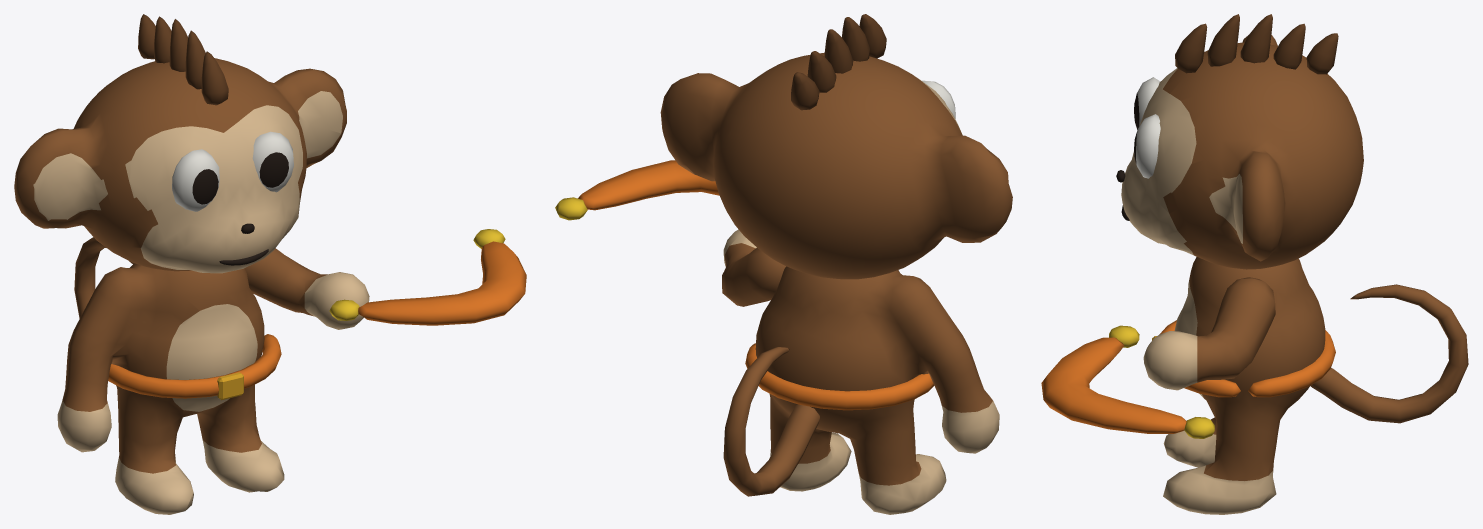
3 views of the same model, side by side, from view 1: azimuth 30°, elevation 25°; view 2: azimuth 150°, elevation 25°; view 3: azimuth 270°, elevation 25° (orthographic). The views are drawn at different scales.
Parts seen in each view (by area): view 1: bumerangue_2_cabeca, bumerangue_0_corpo, bumerangue_3_braco, bumerangue_1_cauda; view 2: bumerangue_2_cabeca, bumerangue_0_corpo, bumerangue_3_braco, bumerangue_1_cauda; view 3: bumerangue_2_cabeca, bumerangue_0_corpo, bumerangue_3_braco, bumerangue_1_cauda.
Boxes of the visible parts, left/top/right/bottom form: bumerangue_2_cabeca: left=14, top=14, right=346, bottom=273; bumerangue_0_corpo: left=57, top=263, right=284, bottom=514; bumerangue_3_braco: left=244, top=229, right=526, bottom=329; bumerangue_1_cauda: left=74, top=237, right=133, bottom=318; bumerangue_2_cabeca: left=660, top=14, right=1012, bottom=279; bumerangue_0_corpo: left=745, top=266, right=999, bottom=514; bumerangue_3_braco: left=555, top=160, right=785, bottom=306; bumerangue_1_cauda: left=723, top=347, right=819, bottom=496; bumerangue_2_cabeca: left=1116, top=14, right=1363, bottom=269; bumerangue_0_corpo: left=1152, top=257, right=1335, bottom=514; bumerangue_3_braco: left=1041, top=277, right=1275, bottom=438; bumerangue_1_cauda: left=1310, top=284, right=1468, bottom=423.
Size of the model in its own units: 1.1 by 1.05 by 0.8578.
